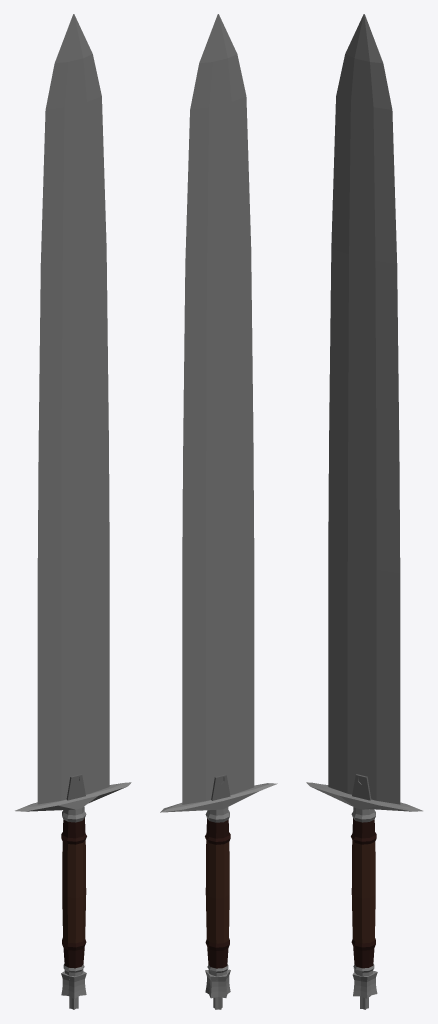
Rendered from Claymore.fbx.
3 views of the same model, side by side, from view 1: azimuth 30°, elevation 25°; view 2: azimuth 210°, elevation 25°; view 3: azimuth 330°, elevation 25° (orthographic).
Parts seen in each view (by area): view 1: Cylinder.001; view 2: Cylinder.001; view 3: Cylinder.001.
Boxes of the visible parts, x1=… form: Cylinder.001: x1=15, y1=14, x2=131, y2=1009; Cylinder.001: x1=160, y1=14, x2=277, y2=1009; Cylinder.001: x1=306, y1=14, x2=422, y2=1009.
Bounding box in the file's own units: 1152 × 9278 × 221.
